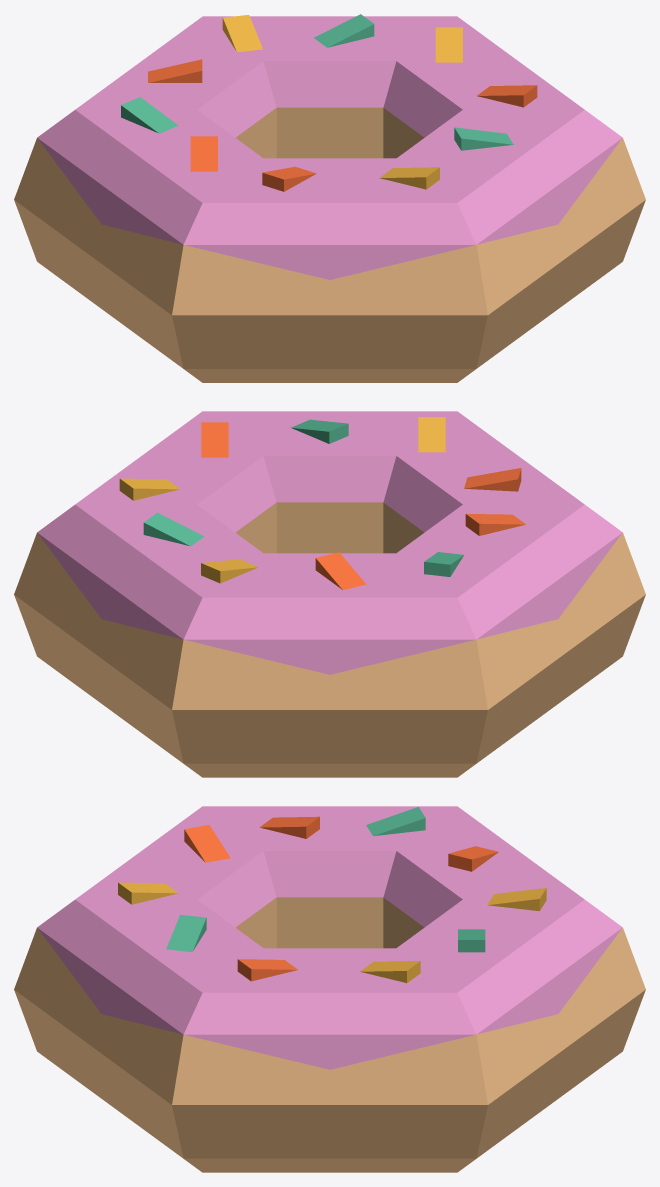
File: donutSprinkles.obj
3 views of the same model, one above another, from view 1: azimuth 30°, elevation 25°; view 2: azimuth 150°, elevation 25°; view 3: azimuth 270°, elevation 25° (orthographic).
Visible parts, largest first — view 1: donutSprinkles; view 2: donutSprinkles; view 3: donutSprinkles.
Part boxes in pixels (x1=…): donutSprinkles: x1=14, y1=14, x2=645, y2=382; donutSprinkles: x1=14, y1=411, x2=645, y2=777; donutSprinkles: x1=14, y1=806, x2=645, y2=1172.
Size of the model in its own units: 0.2451 by 0.095 by 0.283.
